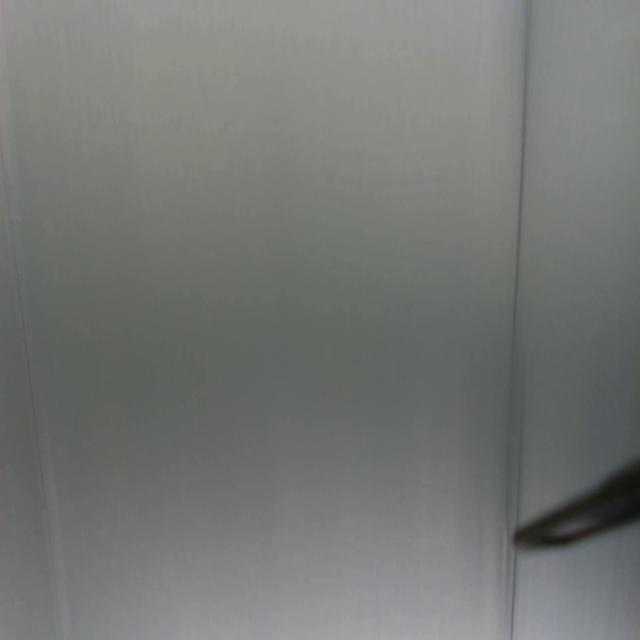crease: (0, 140, 63, 639), (509, 0, 532, 341), (506, 547, 518, 640)
